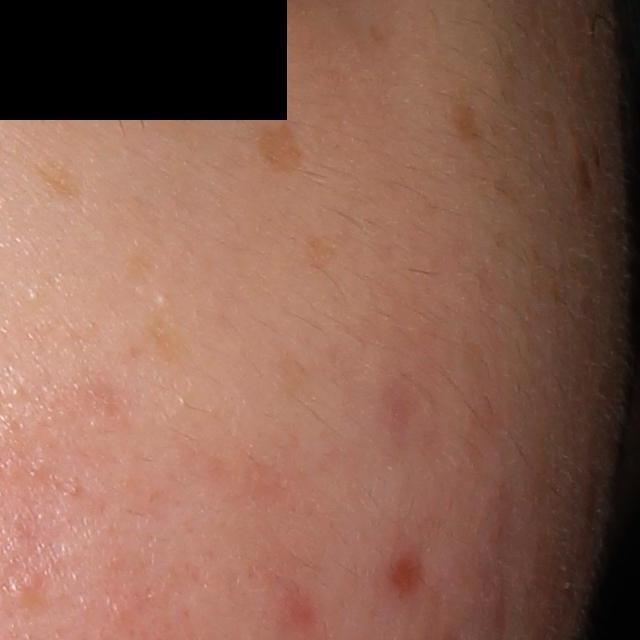melasma: (443, 81, 492, 166), (251, 119, 309, 175), (31, 158, 94, 203), (144, 318, 195, 371), (306, 233, 337, 272)
